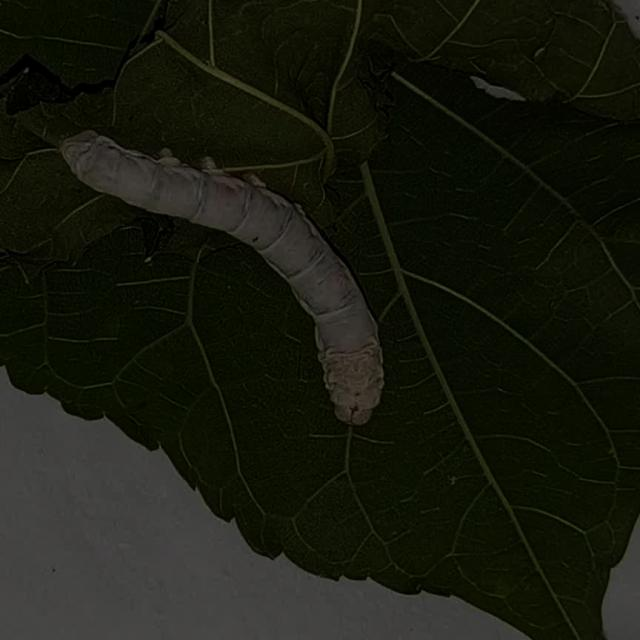Healthy: (52, 123, 423, 437)
